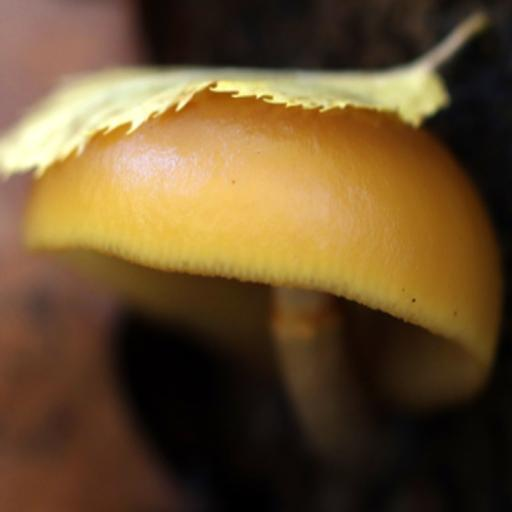mushroom: (42, 81, 501, 424)
